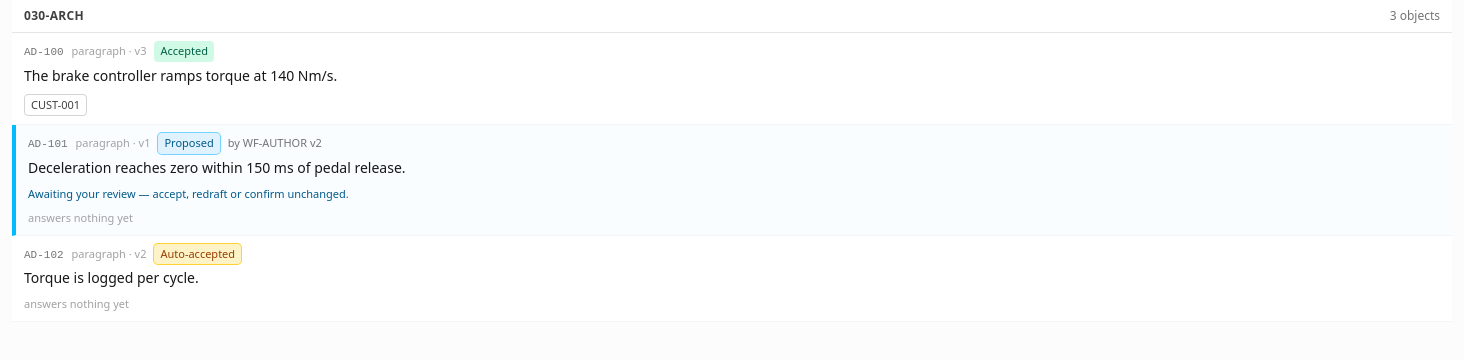
Scenario: in-place link expansion (R-500-017) › fetches the target's coverage the first time only
Step 1. Click the button with test id "link-AD-100-CUST-001" → (56, 105), box [24,94,87,116]
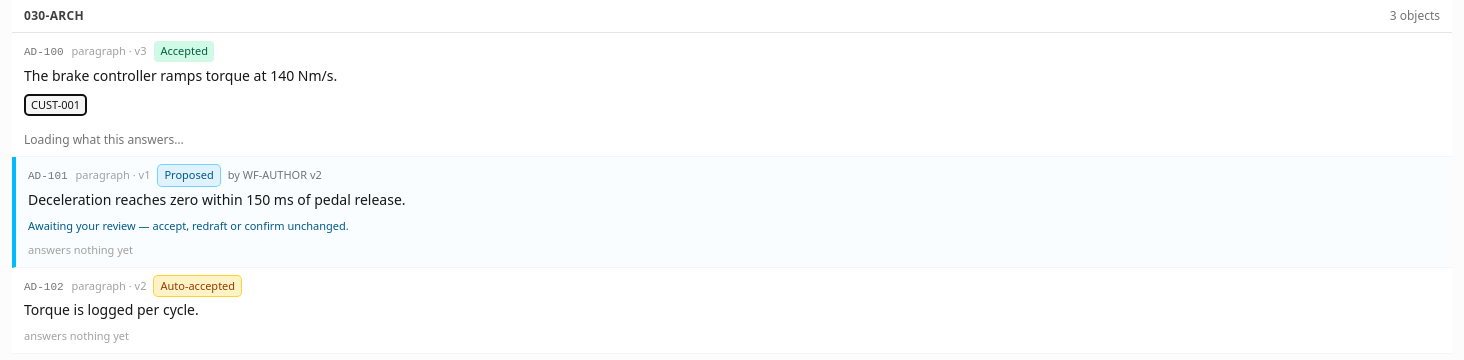
Check: the text "Loading what this answers…" is shown, box [24,131,184,148]
